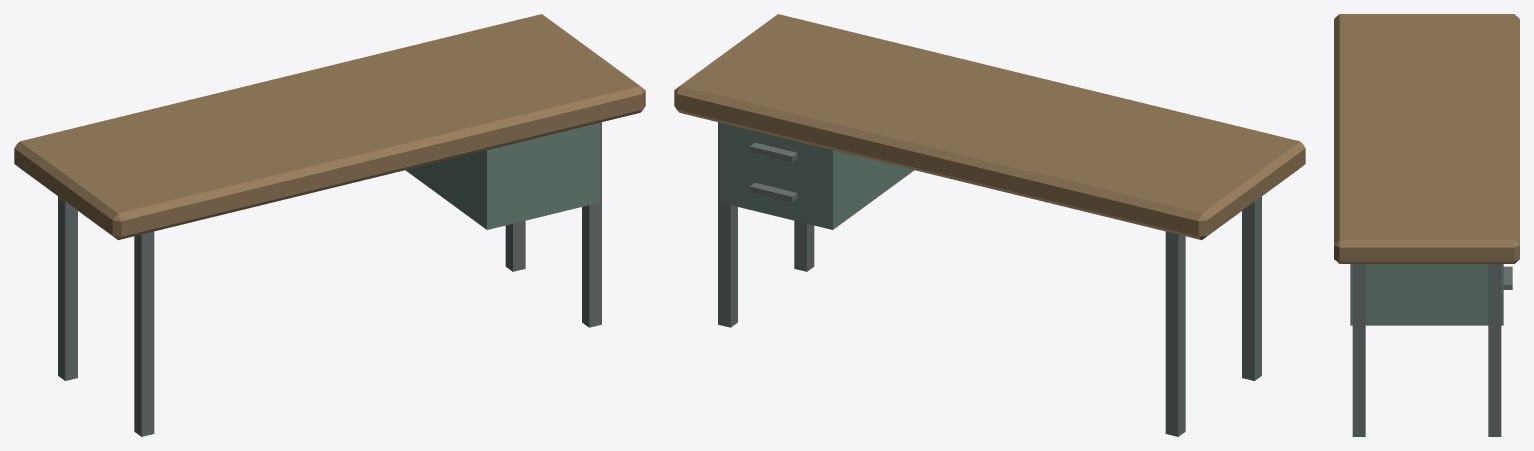
File: desk.glb
3 views of the same model, side by side, from view 1: azimuth 30°, elevation 25°; view 2: azimuth 150°, elevation 25°; view 3: azimuth 270°, elevation 25° (orthographic). The views are drawn at different scales.
Parts seen in each view (by area): view 1: desk; view 2: desk; view 3: desk.
Boxes of the visible parts, x1,y1,x2,y2 form: desk: (14, 14, 645, 436); desk: (674, 14, 1305, 436); desk: (1334, 14, 1519, 436).
Size of the model in its own units: 2.5 by 1.06 by 0.85.
